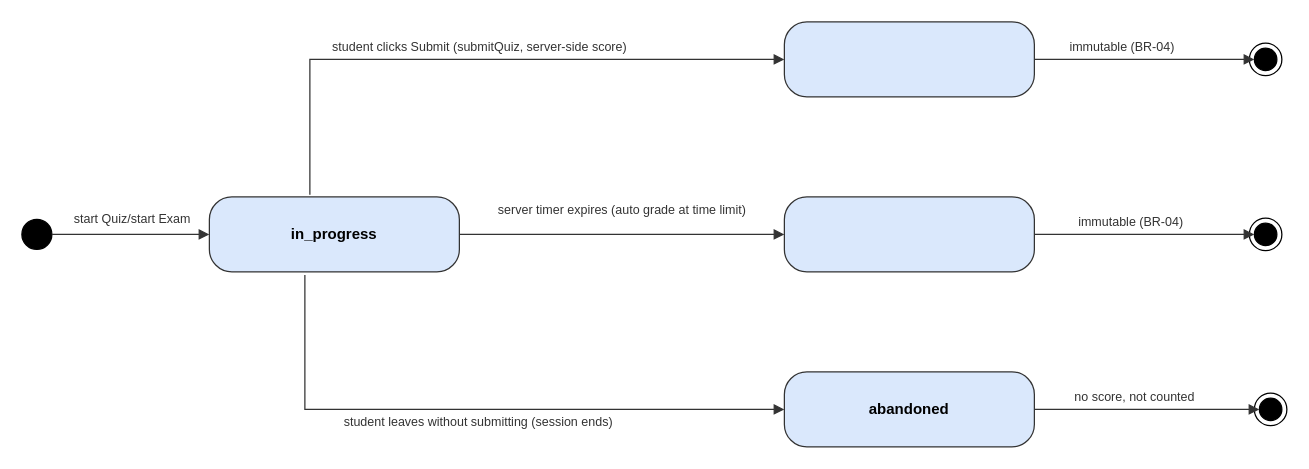
Some shapes in this 1309 by 469 pixel diagram are drawn without their labels. Here are the shapes that lost their labels. From the top down, the centre of each, then its label:
At [908,59]: "submitted".
At [908,234]: "auto_submitted".
